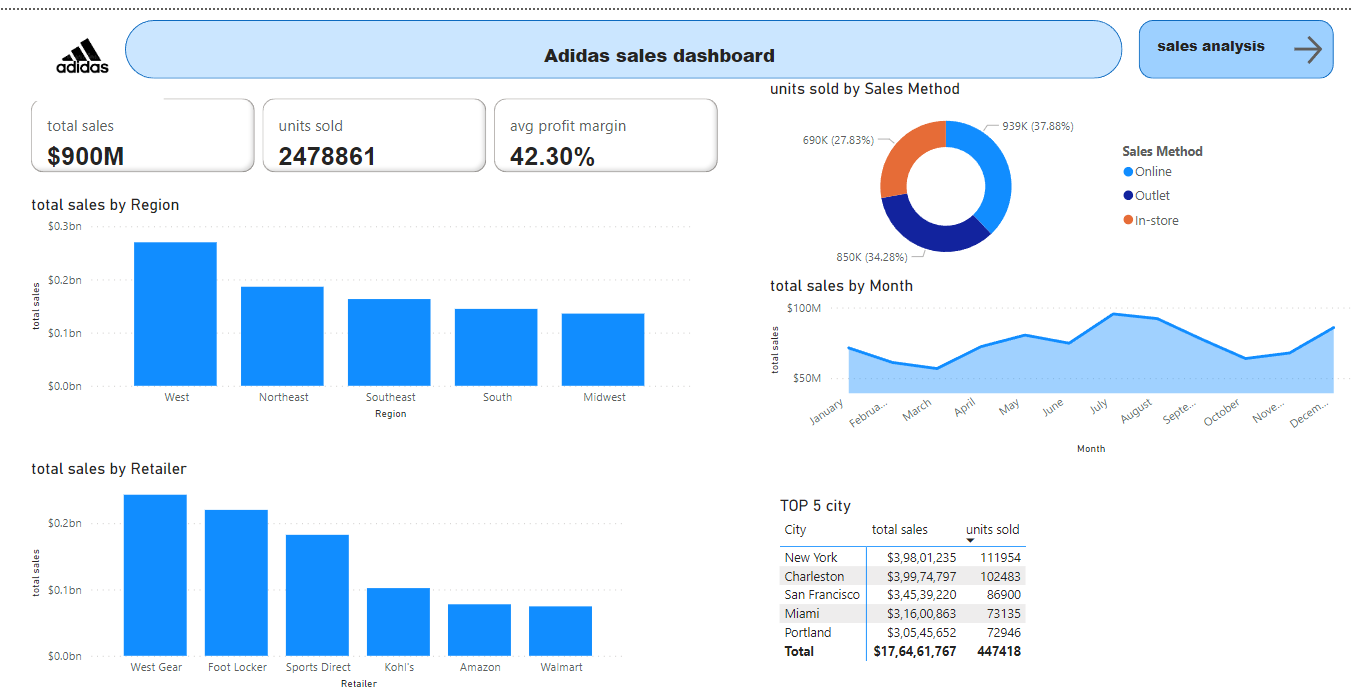

The dashboard page shown, as its layout file describes it:
{"tool":"powerbi","page":{"name":"overview page","canvas":[1450,720],"ordinal":0},"visuals":[{"type":"cardVisual","fields":{"Data":["Measure table.total sales","Measure table.units sold","Measure table.avg profit margin"]},"box":[49.3,88,736,88],"z":0},{"type":"columnChart","fields":{"Category":["Data Sales Adidas.Retailer"],"Y":["Measure table.total sales"]},"box":[48.7,472.9,637.5,247.6],"z":1000},{"type":"areaChart","fields":{"Category":["Data Sales Adidas.Invoice Date.Variation.Date Hierarchy.Month"],"Y":["Measure table.total sales"]},"box":[827.2,280.6,623,192.3],"z":2000},{"type":"donutChart","fields":{"Y":["Measure table.units sold"],"Category":["Data Sales Adidas.Sales Method"]},"box":[827.2,72.4,484.7,208.1],"z":3000},{"type":"columnChart","fields":{"Y":["Measure table.total sales"],"Category":["Data Sales Adidas.Region"]},"box":[48.7,194.9,704.7,241.1],"z":4000},{"type":"pivotTable","title":"TOP 5 city","fields":{"Rows":["Data Sales Adidas.City"],"Values":["Measure table.total sales","Measure table.units sold"]},"box":[837.8,512.4,562.5,208.1],"z":5000},{"type":"image","box":[22.4,0,171.2,96.2],"z":6000},{"type":"shape","box":[152.8,10.5,1051.1,61.9],"z":7000},{"type":"textbox","box":[242.4,29,947.1,43.5],"z":8000},{"type":"shape","box":[1221.1,10.5,205.5,61.9],"z":9000},{"type":"actionButton","box":[1379.1,22.4,58,39.5],"z":10000},{"type":"textbox","box":[687,473,150,247],"z":11000},{"type":"textbox","box":[1235.6,22.4,129.1,50.1],"z":12000}]}

Visuals, with their boxes on the page's 1450x720 design canvas (x1, y1, x2, y2). These are canvas units, not pixel positions in the 1351x693 screenshot, which may show the page scaled, cropped or inside an application window:
cardVisual - Measure table.total sales x Measure table.units sold: <region>49, 88, 785, 176</region>
columnChart - Data Sales Adidas.Retailer x Measure table.total sales: <region>49, 473, 686, 720</region>
areaChart - Data Sales Adidas.Invoice Date.Variation.Date Hierarchy.Month x Measure table.total sales: <region>827, 281, 1450, 473</region>
donutChart - Measure table.units sold x Data Sales Adidas.Sales Method: <region>827, 72, 1312, 280</region>
columnChart - Measure table.total sales x Data Sales Adidas.Region: <region>49, 195, 753, 436</region>
"TOP 5 city" pivotTable: <region>838, 512, 1400, 720</region>
image: <region>22, 0, 194, 96</region>
shape: <region>153, 10, 1204, 72</region>
textbox: <region>242, 29, 1190, 72</region>
shape: <region>1221, 10, 1427, 72</region>
actionButton: <region>1379, 22, 1437, 62</region>
textbox: <region>687, 473, 837, 720</region>
textbox: <region>1236, 22, 1365, 72</region>
